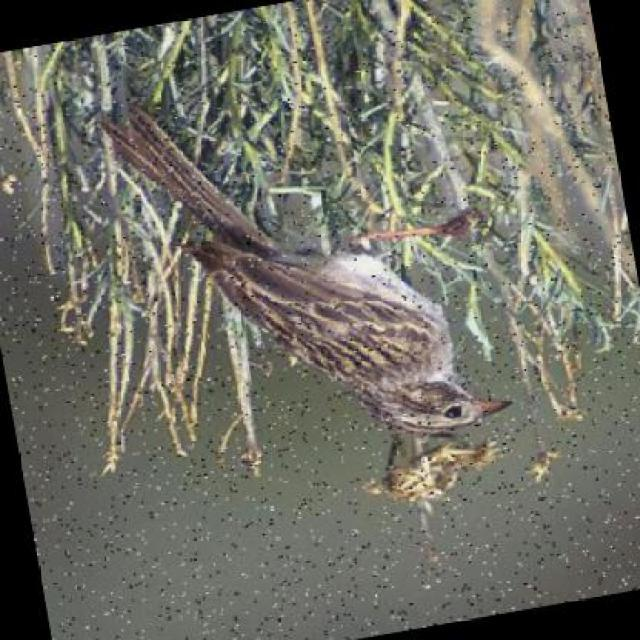Bird: (90, 102, 520, 480)
